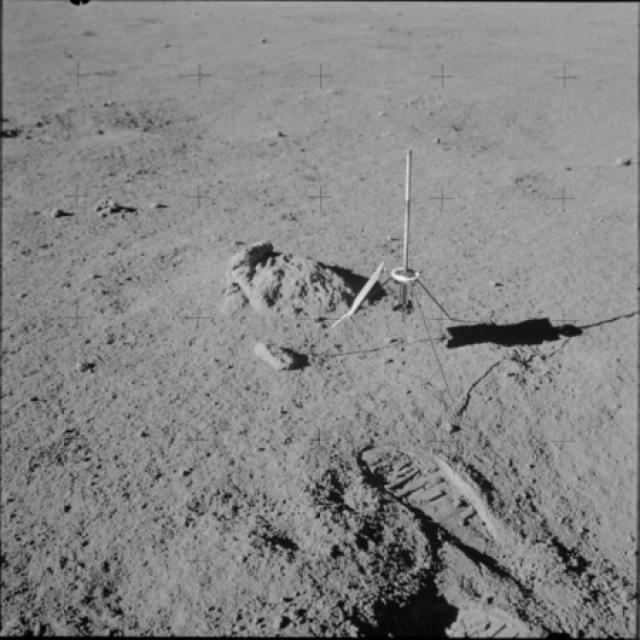crater: (398, 76, 639, 192), (0, 82, 229, 166)
rock: (214, 242, 364, 323), (246, 334, 305, 382)
